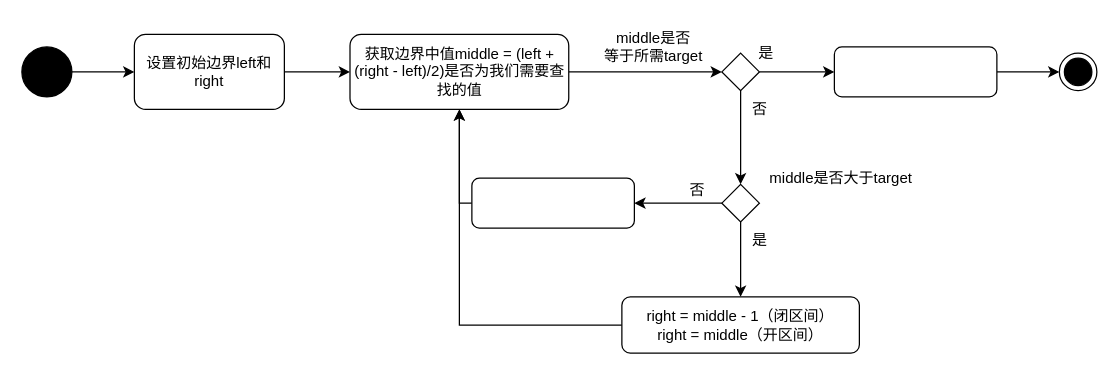
The diagram is 1119 pixels wide and 375 high, and some of its shapes have lost their labels. Each missing label, with the centre of its shape:
"left = middle + 1" goes at point 552,202.
"middle即为 所需要的元素下标" goes at point 915,71.
